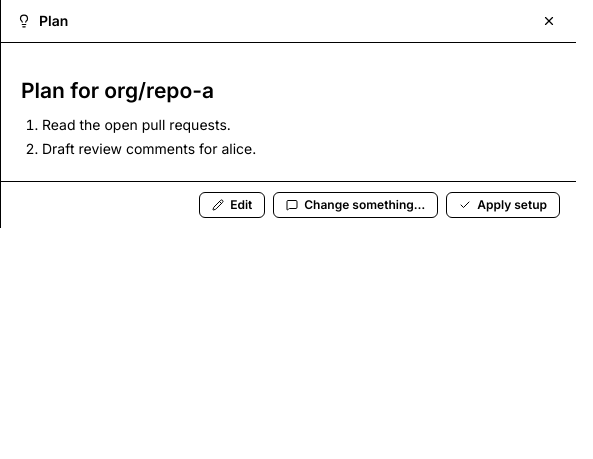
Test: The plan panel's footer › goes back to the decision on Cancel
The image size is (593, 459).
Click the button "Edit": (232, 205) [199,192,265,218]
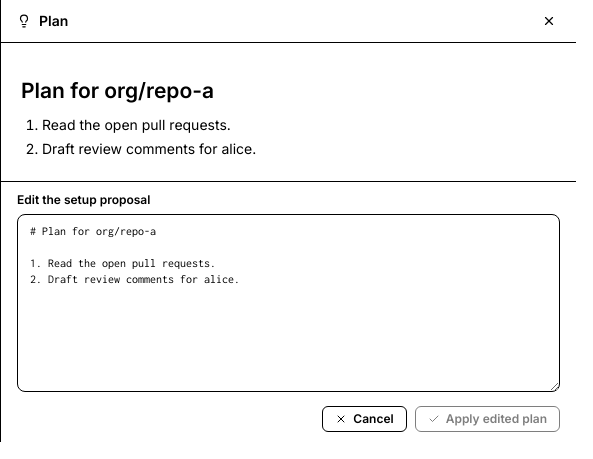
Expected: the text box labelled "Edit the setup proposal" is shown, [17,214,560,392]
Click the button "Cancel": (364, 419) [322,406,407,432]
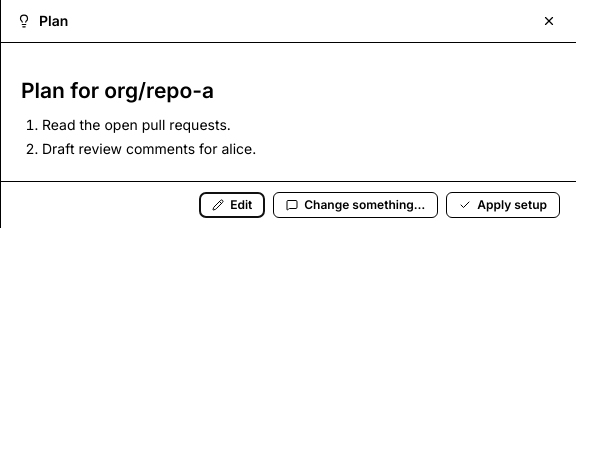
Expected: the button "Apply setup" is shown, [446,192,560,218]
